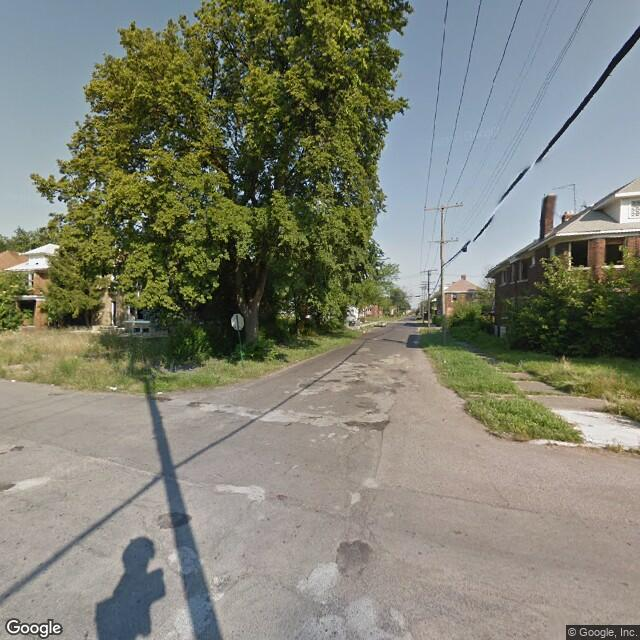litter: (103, 382, 121, 391), (154, 390, 166, 395), (8, 377, 13, 384)
